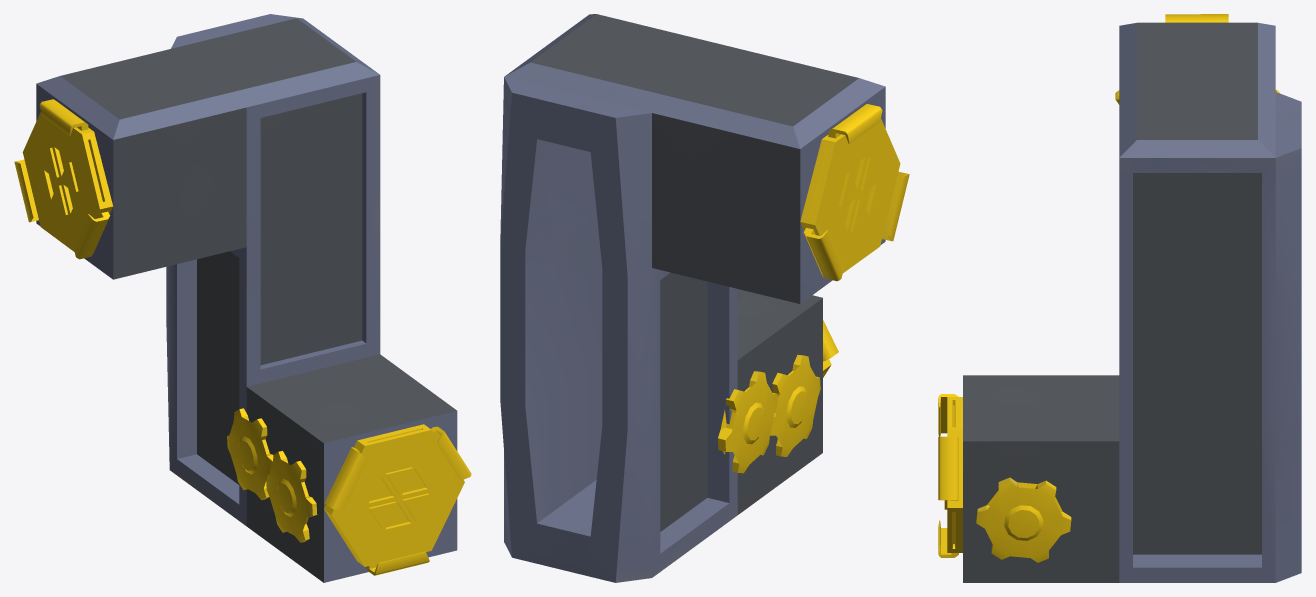
Rendered from TedrisNico.FBX.
3 views of the same model, side by side, from view 1: azimuth 30°, elevation 25°; view 2: azimuth 150°, elevation 25°; view 3: azimuth 270°, elevation 25° (orthographic). The views are drawn at different scales.
Parts seen in each view (by area): view 1: polySurface19; view 2: polySurface19; view 3: polySurface19.
Boxes of the visible parts, x1,y1,x2,y2 form: polySurface19: (14,14,471,582); polySurface19: (500,14,909,582); polySurface19: (938,14,1301,582).
Size of the model in its own units: 4.55 by 4.65 by 6.28.
1 material, 1 textured.
